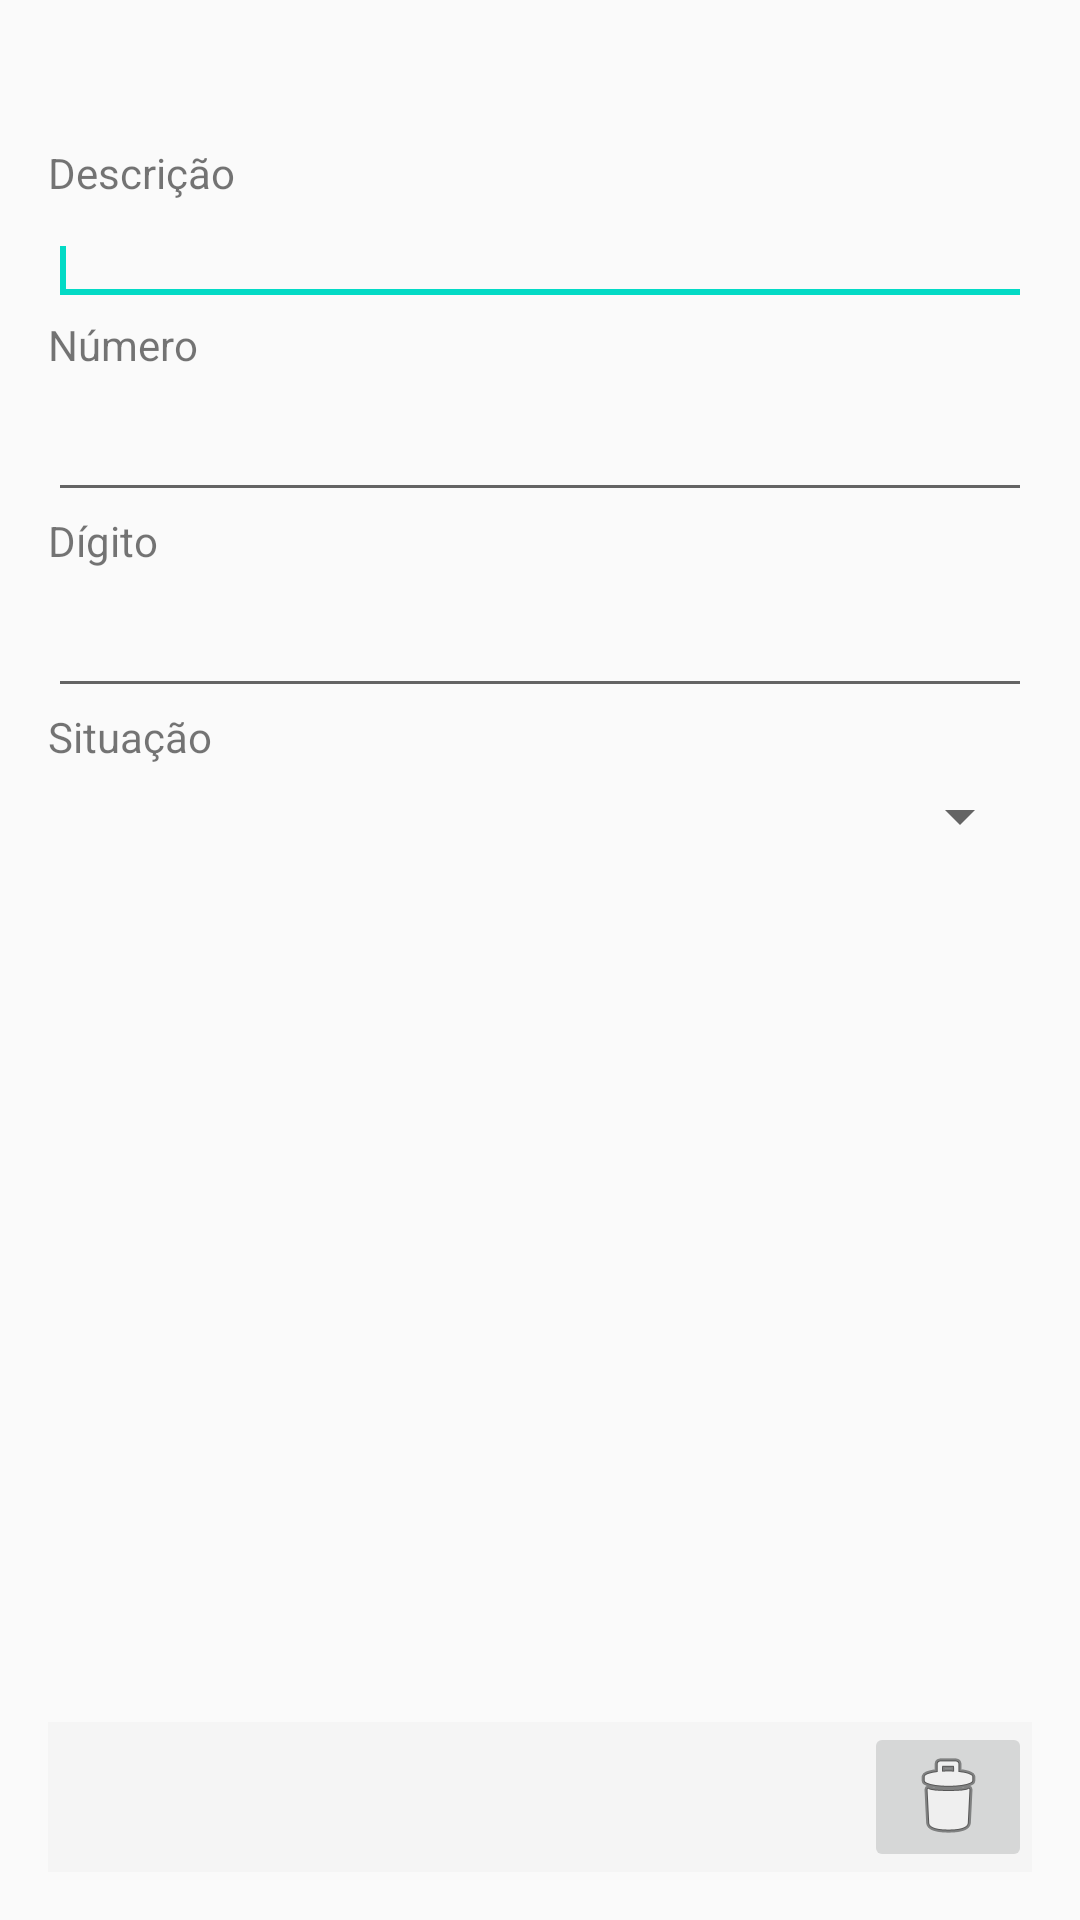

Icons on this 1080*1920 Android screen, each with its box as (x1, y1, x2, y2):
delete: (876, 1740, 1020, 1854)
